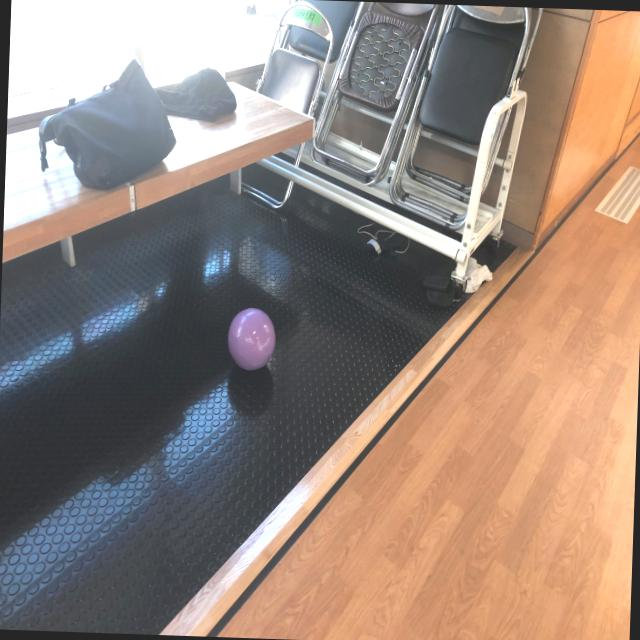purple_ball: (227, 305, 276, 373)
